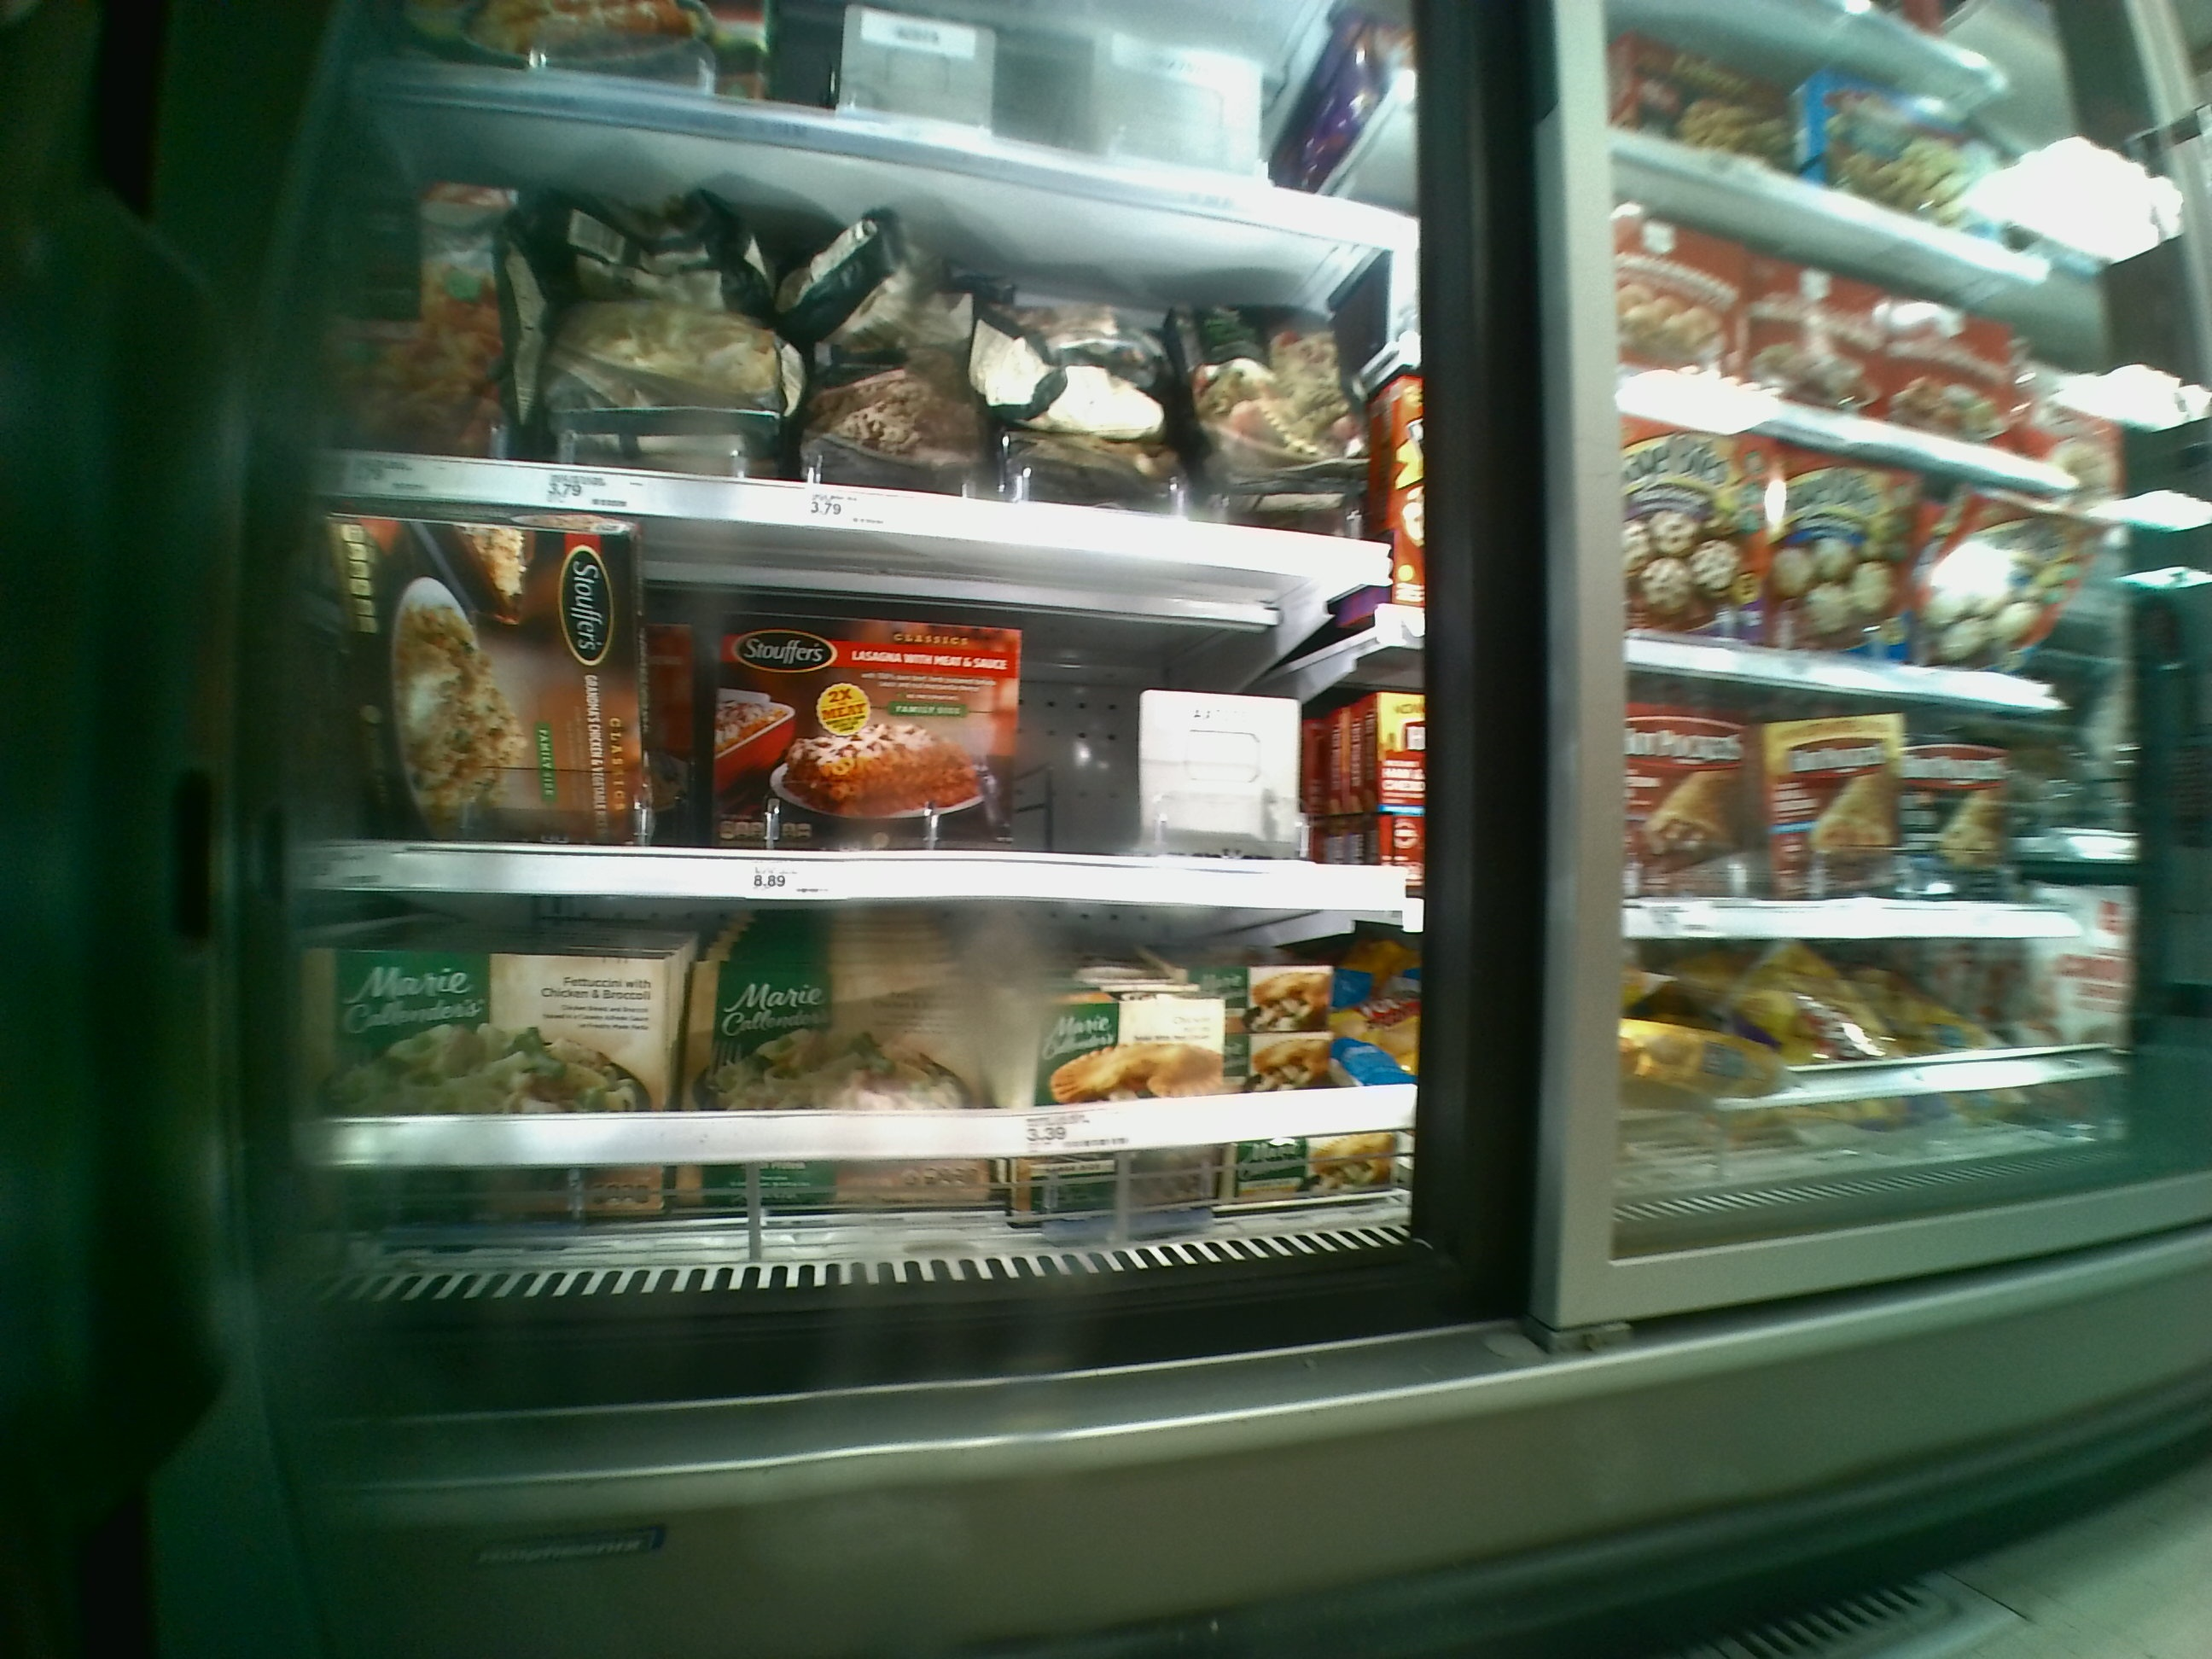shelf: (310, 523, 1416, 917), (317, 153, 1386, 547), (315, 911, 1409, 1249)
